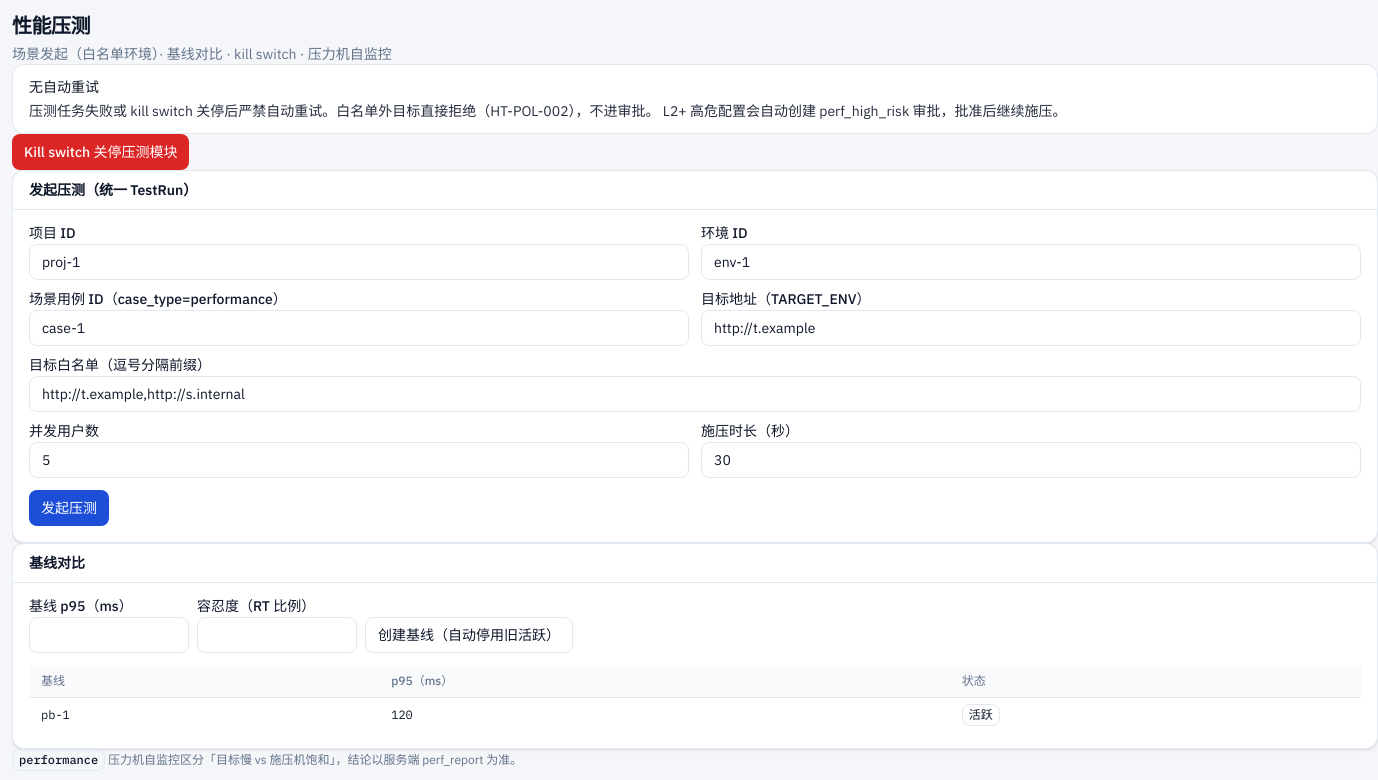
Test case: PerformancePage › starts a perf run with whitelist params via API-062
Click the button "发起压测": [69, 508] box x1=29 y1=490 x2=109 y2=526
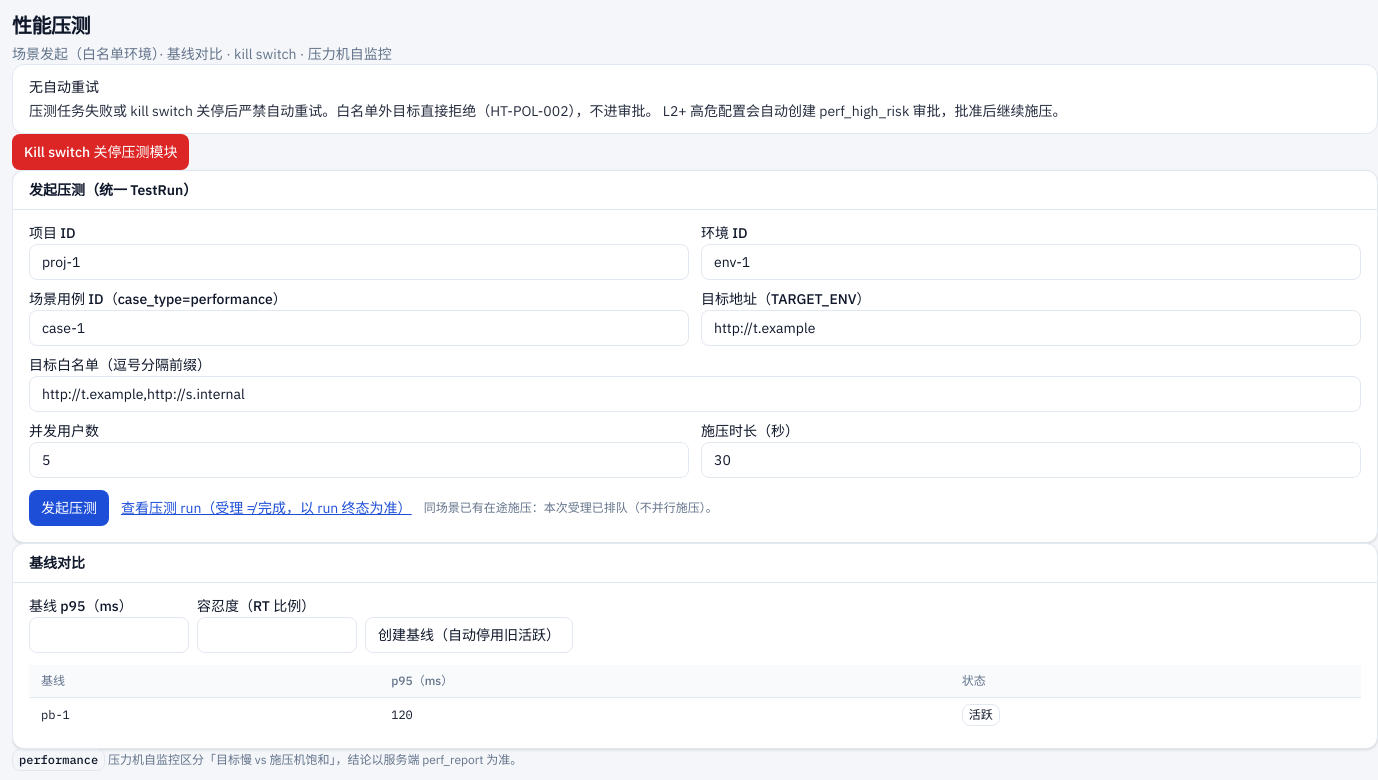
Check: the text "排队" is shown, box x1=424 y1=500 x2=718 y2=516
